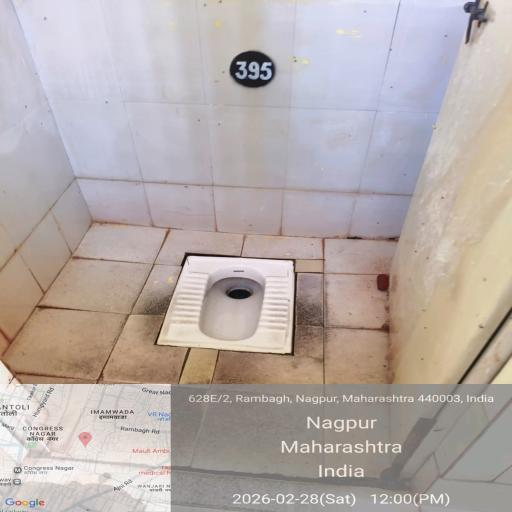clean_floor: (0, 86, 125, 216)
dirty_floor: (46, 227, 414, 397)
partial_dirty_floor: (130, 0, 347, 239), (415, 102, 483, 292)
partial_dirty_indian: (171, 252, 290, 347)
